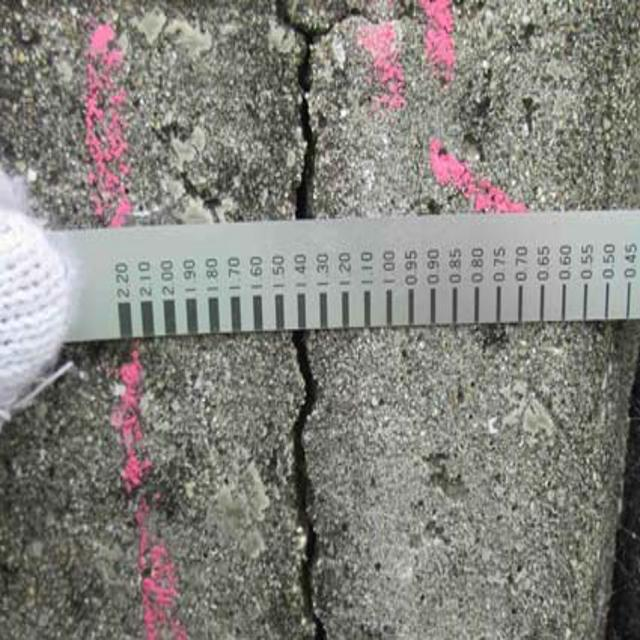crack: (278, 337, 358, 637), (263, 3, 346, 221)
